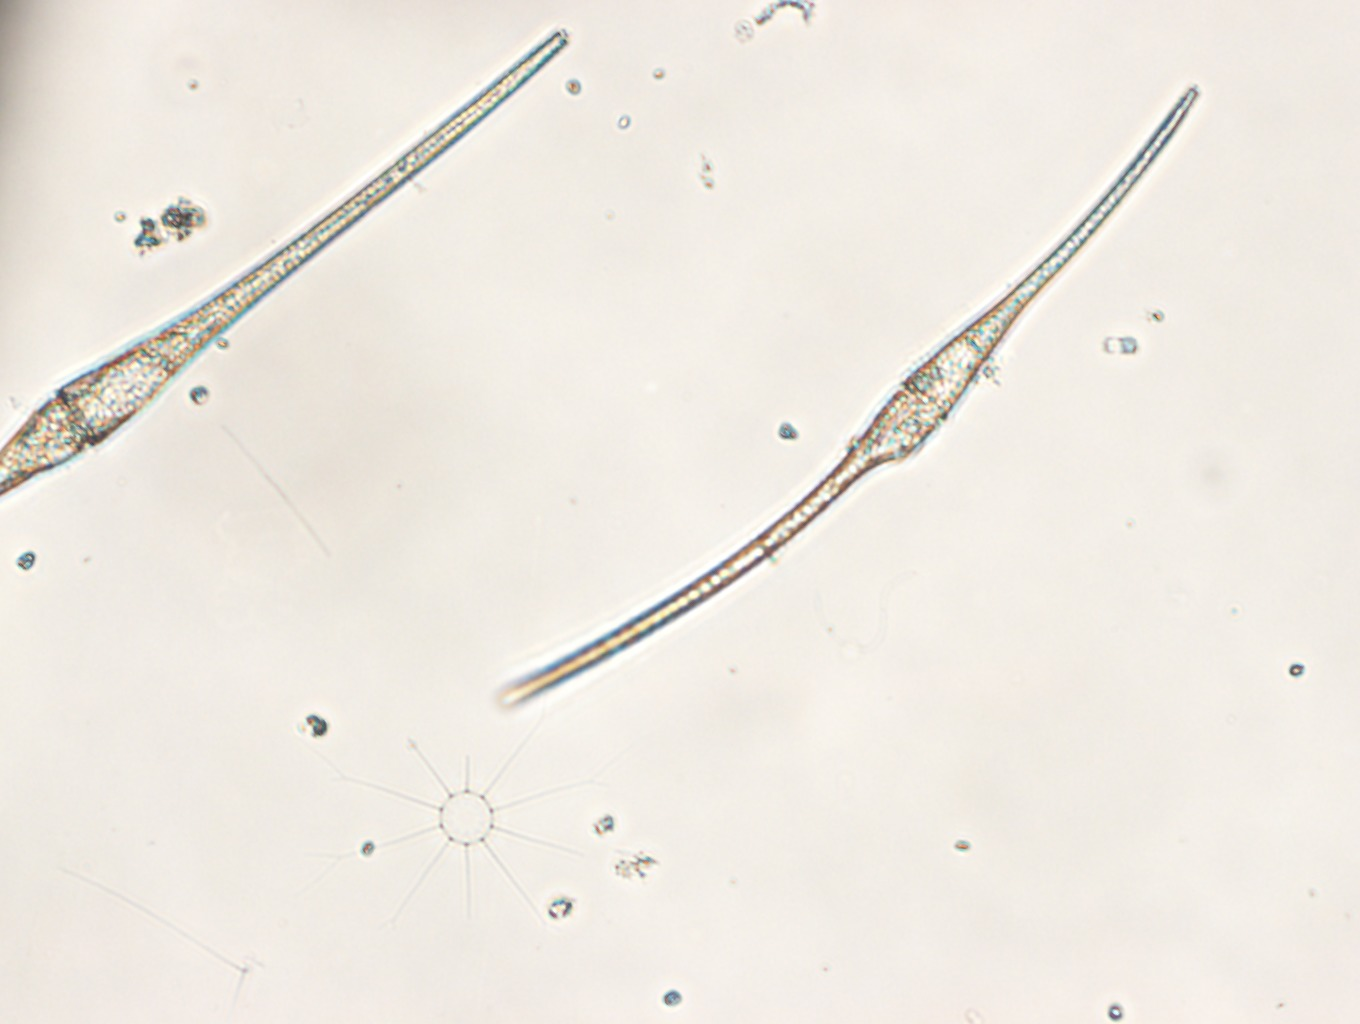bacteriastrum: (352, 734, 585, 922)
ceratium fusus: (502, 85, 1198, 708), (1, 28, 568, 497)
